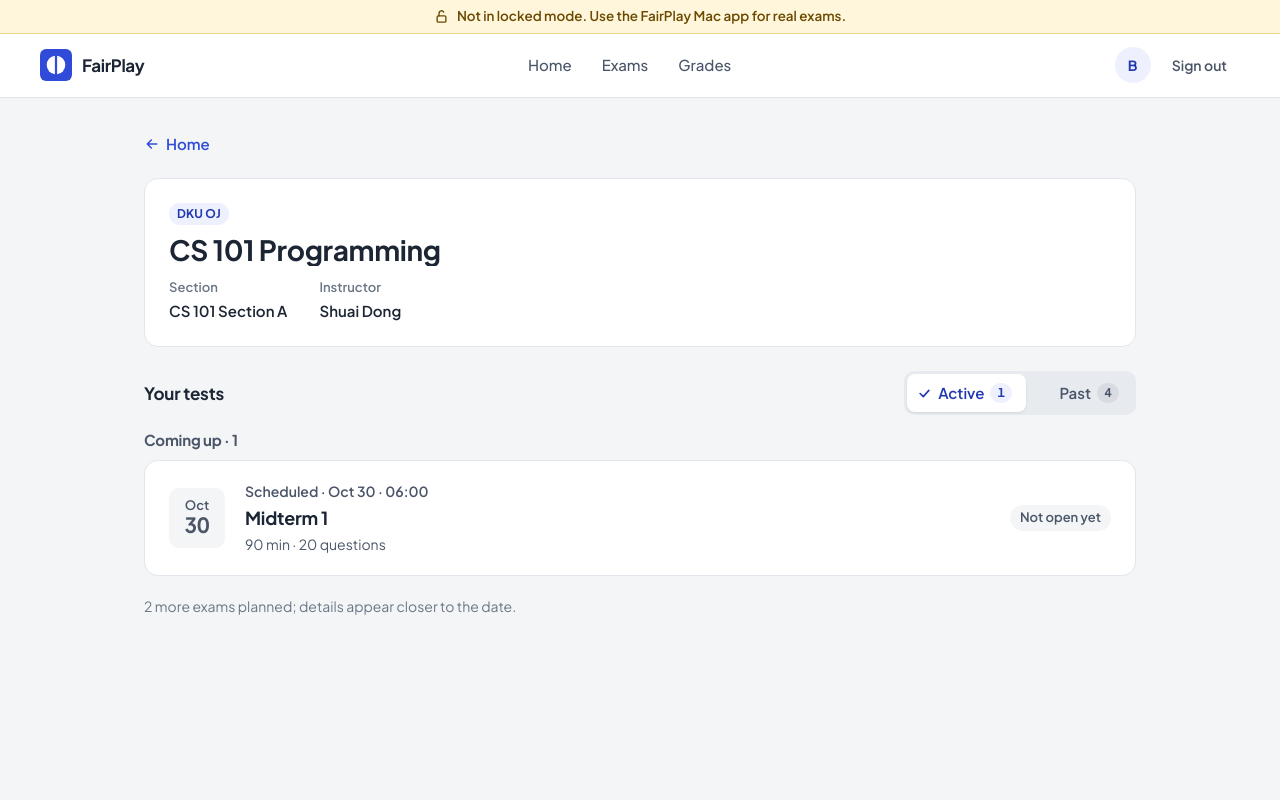
Test: course page › Past: grade when released and the review shows it, else Handed in / Being graded
The image size is (1280, 800).
Expected: the panel with test id "tests-active" is shown, [144,431,1136,616]
Click the tab "Past 4". click: (1081, 393)
box: [1028,374,1133,412]
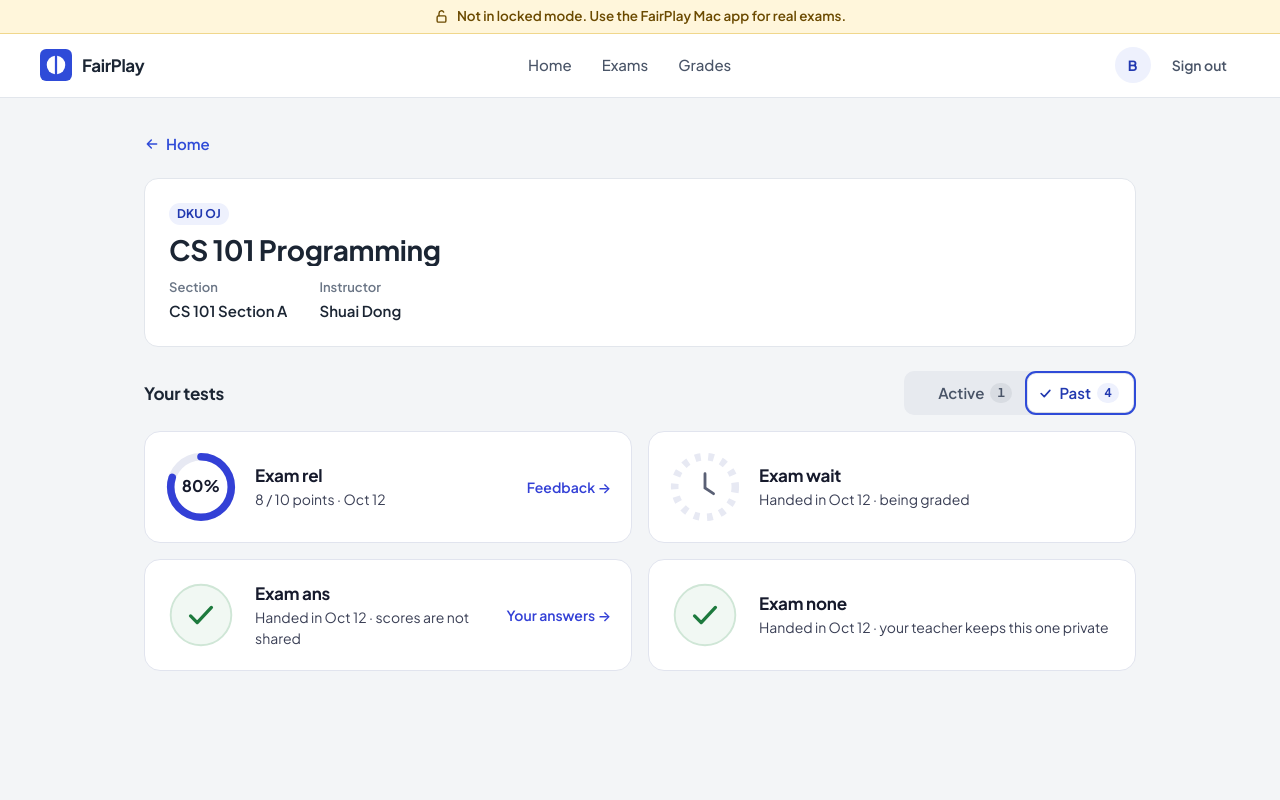
Now the picture named "80 percent" is shown, box [165,451,237,523]
Now the link "Exam rel" shows "8 / 10 points · Oct 12", box [144,431,632,543]
Now the link "Exam rel" shows "Feedback", box [144,431,632,543]
